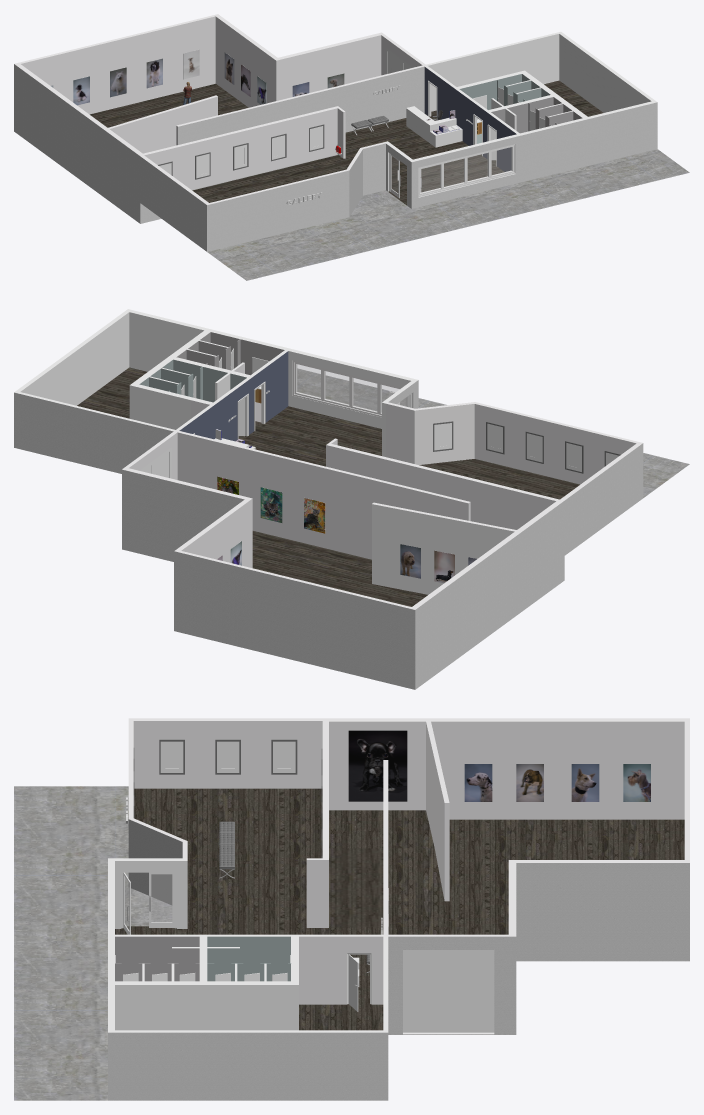
File: art_gallery.glb
3 views of the same model, one above another, from view 1: azimuth 30°, elevation 25°; view 2: azimuth 150°, elevation 25°; view 3: azimuth 270°, elevation 25° (orthographic). The views are drawn at different scales.
Parts seen in each view (by area): view 1: Material2 (×25), Material3 (×2); view 2: Material2 (×23), Material3; view 3: Material2 (×25).
Part boxes in pixels (x1=…): Material2 (×25): x1=14, y1=14, x2=689, y2=280; Material3 (×2): x1=183, y1=49, x2=529, y2=109; Material2 (×23): x1=14, y1=309, x2=689, y2=689; Material3: x1=129, y1=385, x2=190, y2=429; Material2 (×25): x1=14, y1=718, x2=689, y2=1100.
Bounding box in the file's own units: 1069 × 156 × 972.
68 materials, 34 textured.
